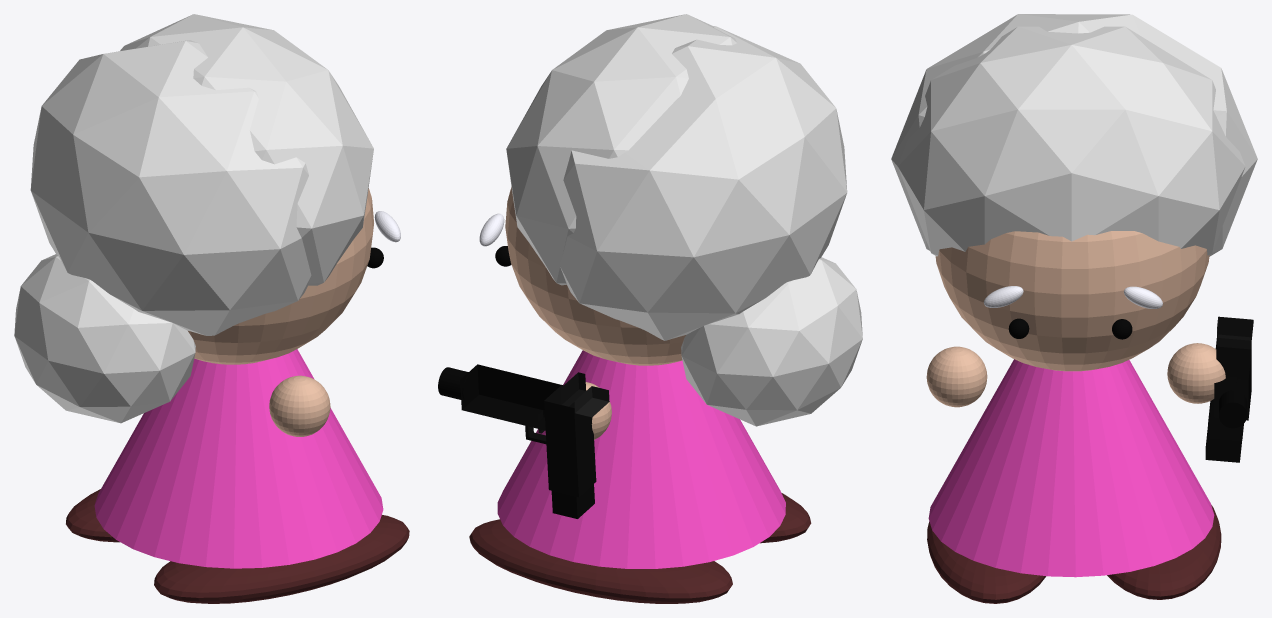
The model's file is obaasan_gun.fbx.
The picture shows the model from 3 angles, left to right: view 1: azimuth 30°, elevation 25°; view 2: azimuth 150°, elevation 25°; view 3: azimuth 270°, elevation 25°; orthographic projection.
Visible parts, largest first — view 1: Icosphere.002, Cone.004, Sphere.015, Sphere.013, Sphere.017, Sphere.014, Sphere.018; view 2: Icosphere.002, Cone.004, Cube.007, Sphere.014, Sphere.013, Sphere.015; view 3: Icosphere.002, Cone.004, Sphere.013, Cube.007, Sphere.015, Sphere.014, Sphere.017, Sphere.016, Sphere.018, Sphere.019.
Boxes of the visible parts, bbox=[...] form: Icosphere.002: bbox=[14, 14, 373, 423]; Cone.004: bbox=[94, 349, 383, 568]; Sphere.015: bbox=[154, 515, 409, 603]; Sphere.013: bbox=[188, 188, 373, 364]; Sphere.017: bbox=[269, 375, 330, 436]; Sphere.014: bbox=[66, 489, 119, 542]; Sphere.018: bbox=[374, 211, 400, 242]; Icosphere.002: bbox=[506, 14, 862, 426]; Cone.004: bbox=[497, 350, 785, 568]; Cube.007: bbox=[438, 364, 609, 518]; Sphere.014: bbox=[469, 519, 732, 603]; Sphere.013: bbox=[505, 187, 685, 365]; Sphere.015: bbox=[760, 493, 811, 543]; Icosphere.002: bbox=[891, 14, 1257, 256]; Cone.004: bbox=[928, 359, 1214, 577]; Sphere.013: bbox=[935, 231, 1209, 371]; Cube.007: bbox=[1205, 316, 1253, 462]; Sphere.015: bbox=[927, 521, 1045, 603]; Sphere.014: bbox=[1107, 505, 1221, 599]; Sphere.017: bbox=[926, 346, 987, 407]; Sphere.016: bbox=[1167, 343, 1225, 403]; Sphere.018: bbox=[983, 286, 1023, 307]; Sphere.019: bbox=[1124, 286, 1162, 308].
Bounding box in the file's own units: 158 × 237 × 152.
